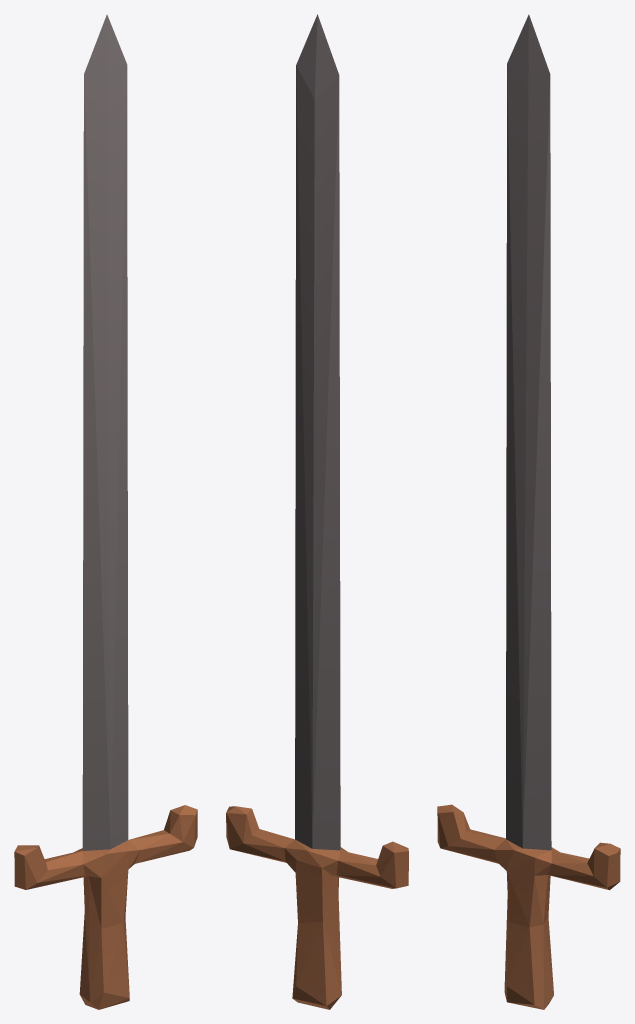
File: SM_Sword_01.fbx
3 views of the same model, side by side, from view 1: azimuth 30°, elevation 25°; view 2: azimuth 150°, elevation 25°; view 3: azimuth 330°, elevation 25° (orthographic).
Visible parts, largest first — view 1: SM_Sword_01; view 2: SM_Sword_01; view 3: SM_Sword_01.
Part boxes in pixels (bbox=[...]): SM_Sword_01: bbox=[14, 14, 197, 1009]; SM_Sword_01: bbox=[226, 14, 408, 1009]; SM_Sword_01: bbox=[437, 14, 620, 1009].
Size of the model in its own units: 23.07 by 119 by 4.33.
